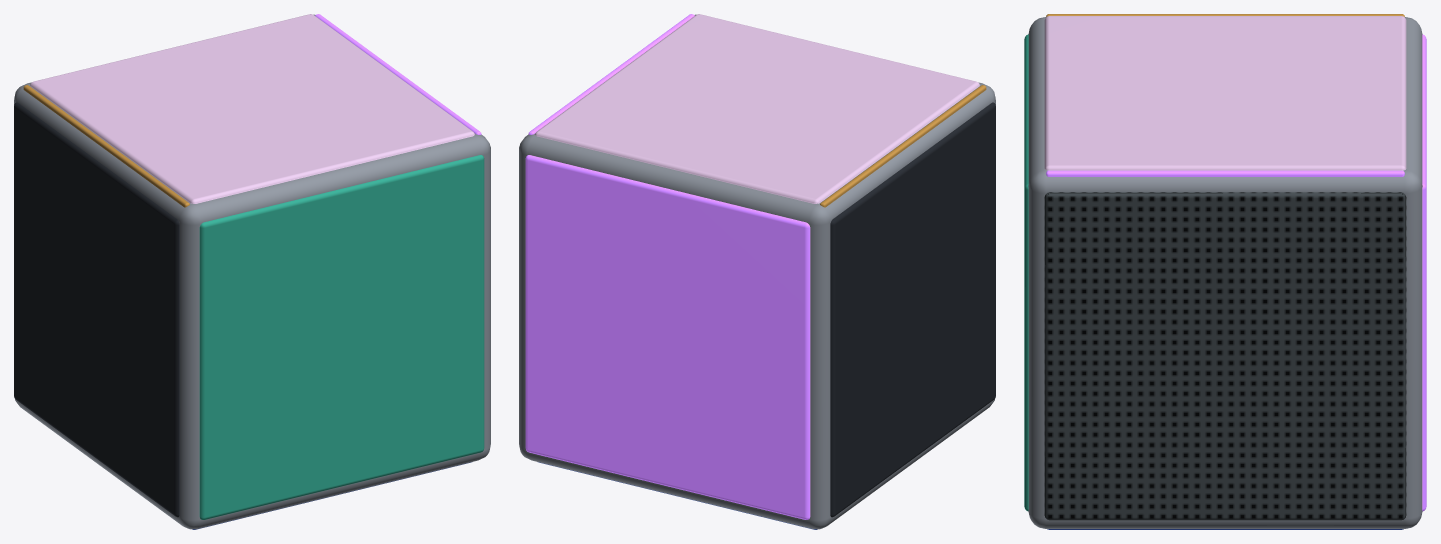
Rendered from algogym-cube.glb.
The picture shows the model from 3 angles, left to right: view 1: azimuth 30°, elevation 25°; view 2: azimuth 150°, elevation 25°; view 3: azimuth 270°, elevation 25°; orthographic projection. The views are drawn at different scales.
Parts seen in each view (by area): view 1: AlgoGymMetalCube; view 2: AlgoGymMetalCube; view 3: AlgoGymMetalCube.
Part boxes in pixels (x1,y1,x2,y2): AlgoGymMetalCube: (14, 14, 490, 529); AlgoGymMetalCube: (519, 14, 995, 529); AlgoGymMetalCube: (1024, 14, 1426, 529).
Size of the model in its own units: 1.02 by 1.02 by 1.02.
8 materials, 1 textured.
